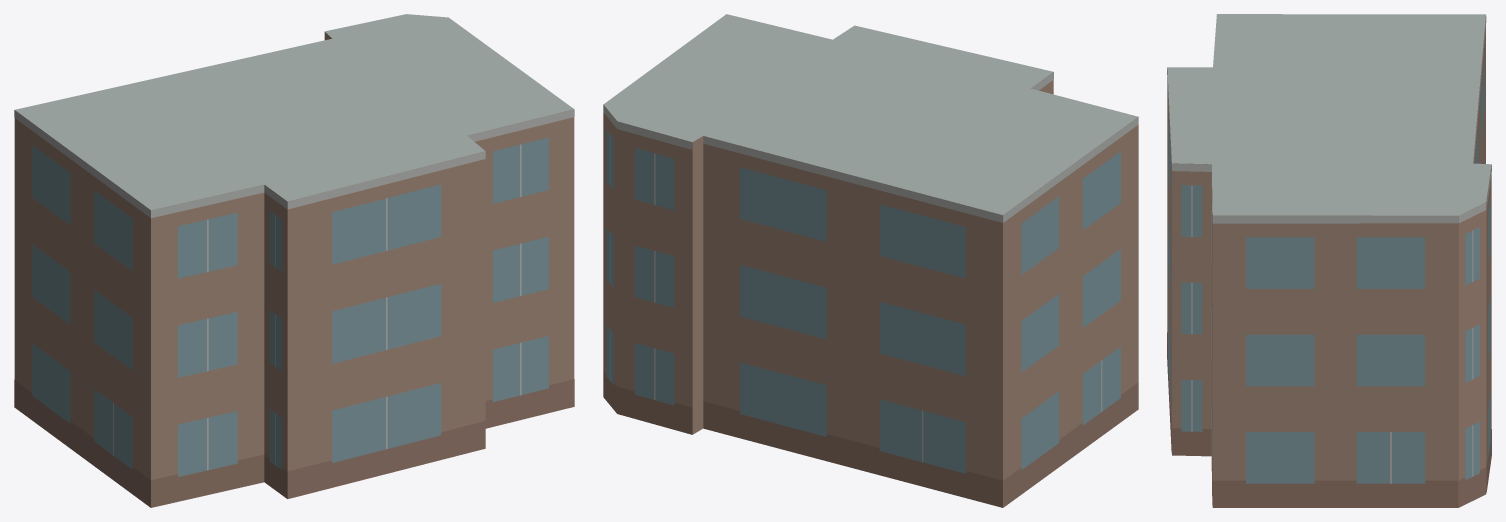
File: survey-upis-32628859.glb
3 views of the same model, side by side, from view 1: azimuth 30°, elevation 25°; view 2: azimuth 150°, elevation 25°; view 3: azimuth 270°, elevation 25° (orthographic).
Parts seen in each view (by area): view 1: survey-upis-32628859.tmp; view 2: survey-upis-32628859.tmp; view 3: survey-upis-32628859.tmp.
Boxes of the visible parts, <box> form: survey-upis-32628859.tmp: <box>14,14,574,507</box>; survey-upis-32628859.tmp: <box>603,14,1138,507</box>; survey-upis-32628859.tmp: <box>1167,14,1491,507</box>.
Bounding box in the file's own units: 13.57 × 9.15 × 9.22.
